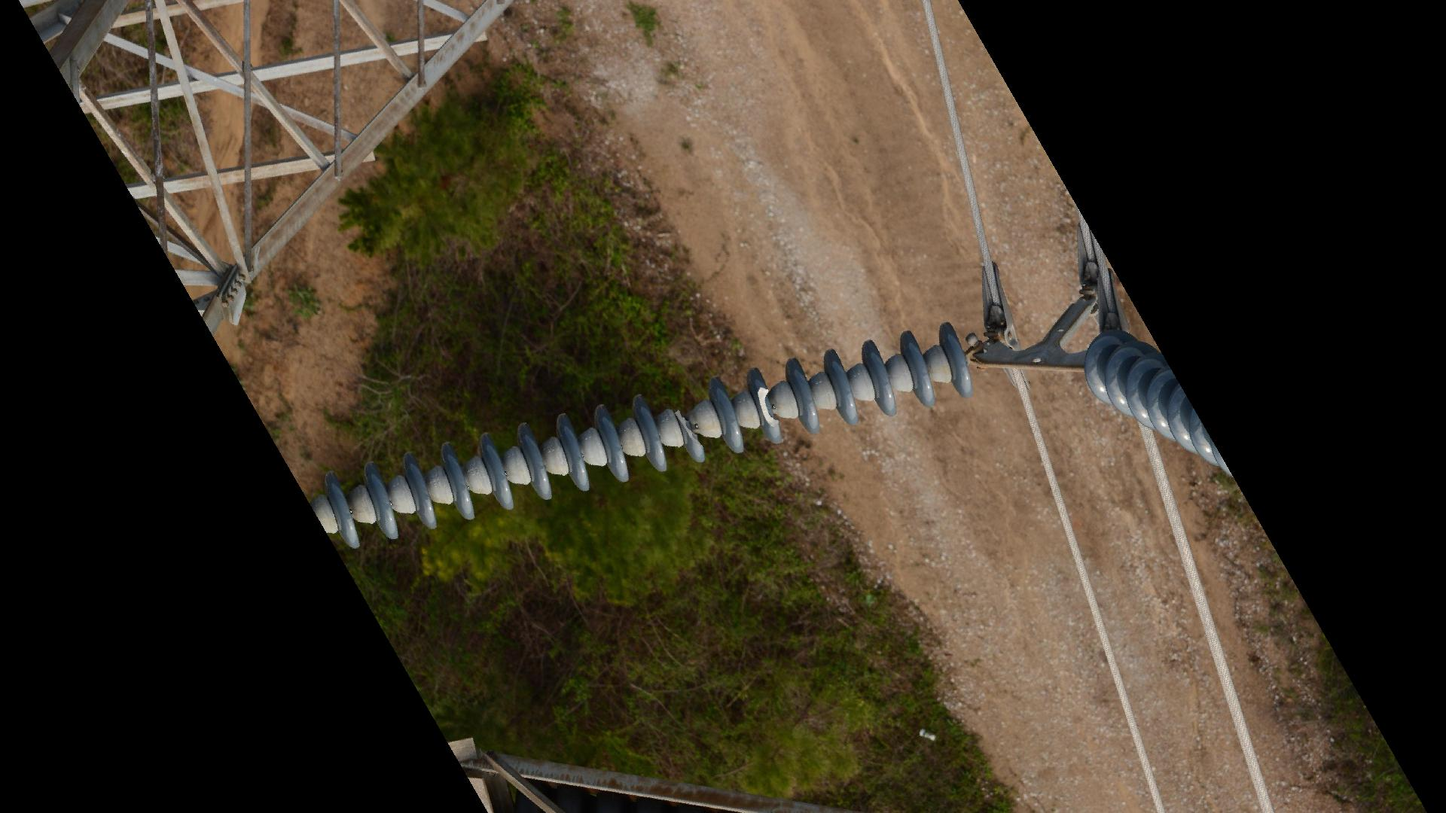insulator: (315, 315, 982, 558), (1075, 327, 1247, 480)
insulator_breakage: (752, 382, 786, 432), (672, 406, 706, 449)
